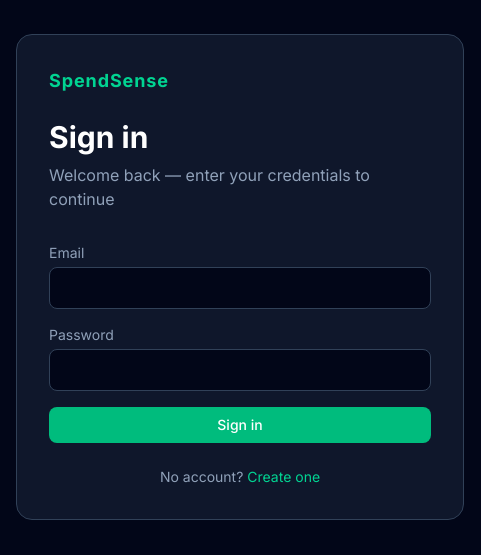
Test: LoginPage › tcA06_showsErrorOnFailedLogin
In the field labelled "Email": [240, 288] box [49,267,431,309], type "user@example.com"
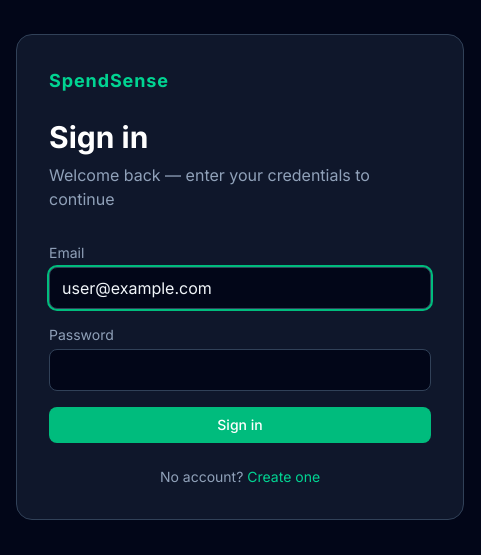
In the password field labelled "Password": [240, 370] box [49,349,431,391], type "wrongpassword"
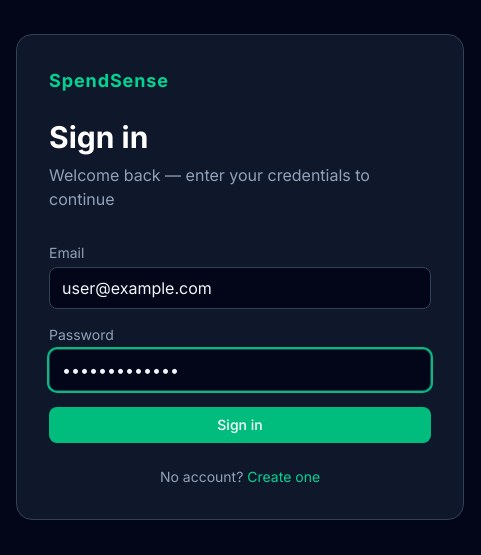
Click the button "Sign in": [240, 425] box [49,407,431,443]
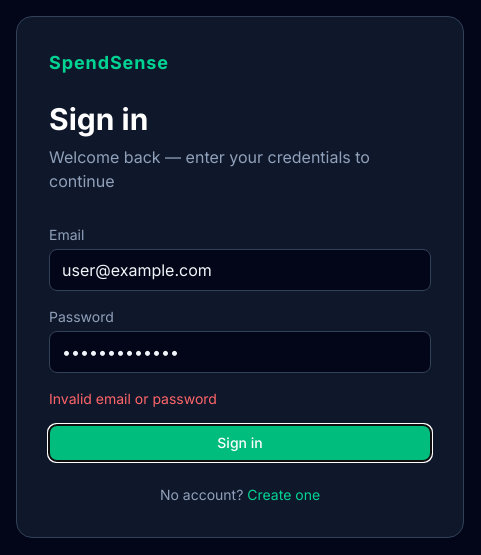
Result: the message reads "Invalid email or password" at [49,390,217,407]
